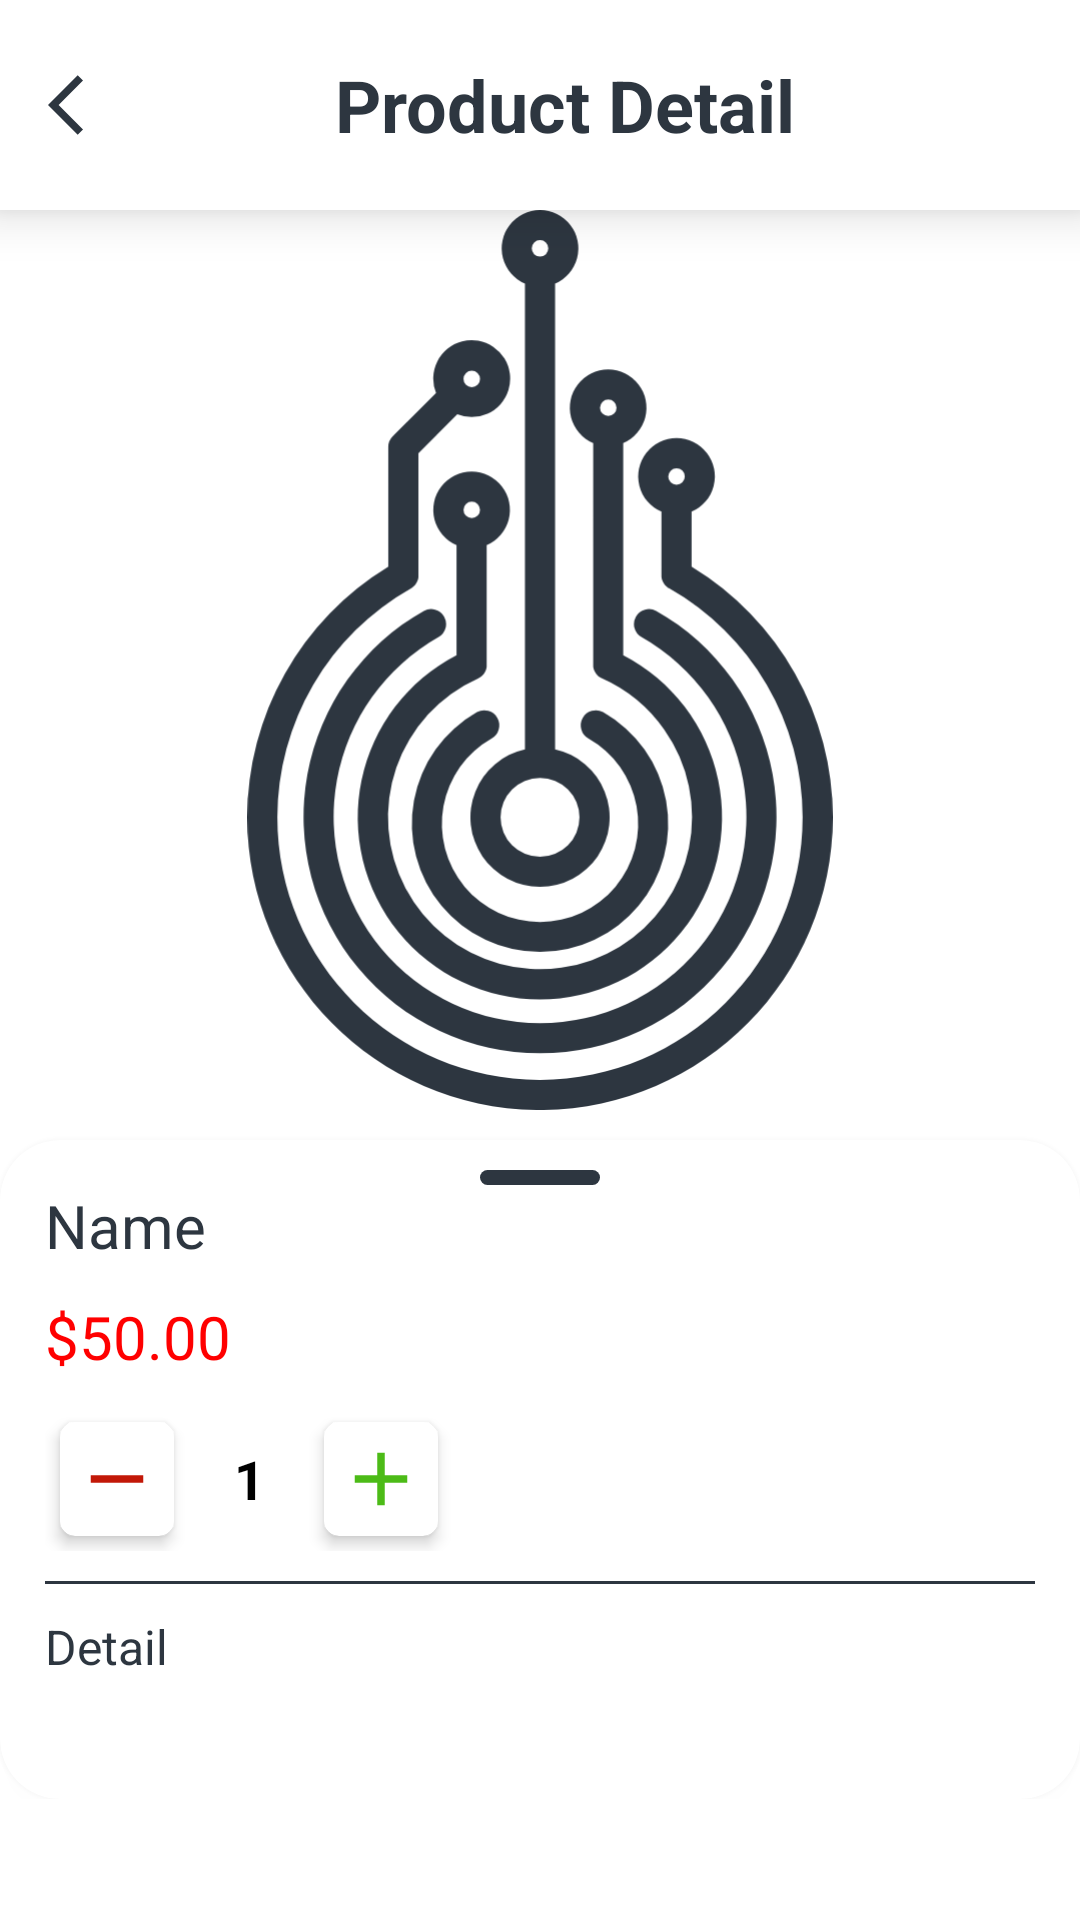

Screen size 1080px×1920px. Icon name, then its box in pixels as rect(x1, y1, x2, y2):
add ammount: rect(354, 1452, 408, 1506)
arrow back: rect(48, 75, 83, 135)
